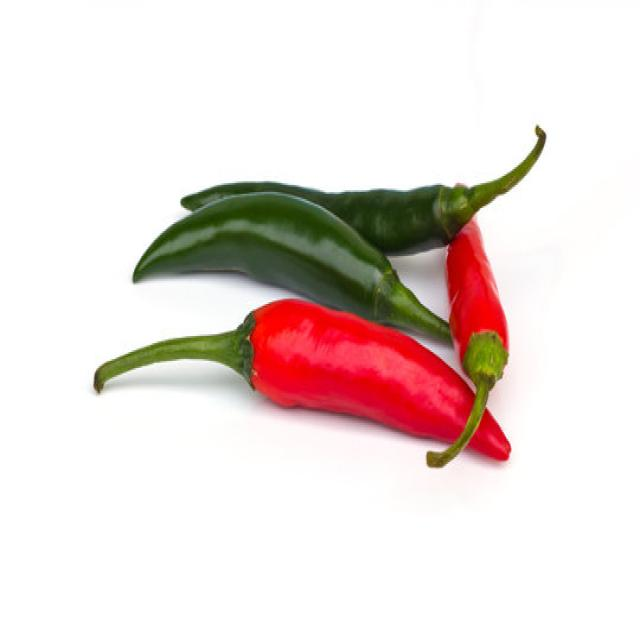Chilli: (92, 297, 511, 466), (130, 188, 454, 348), (179, 123, 546, 256), (426, 215, 510, 468)
